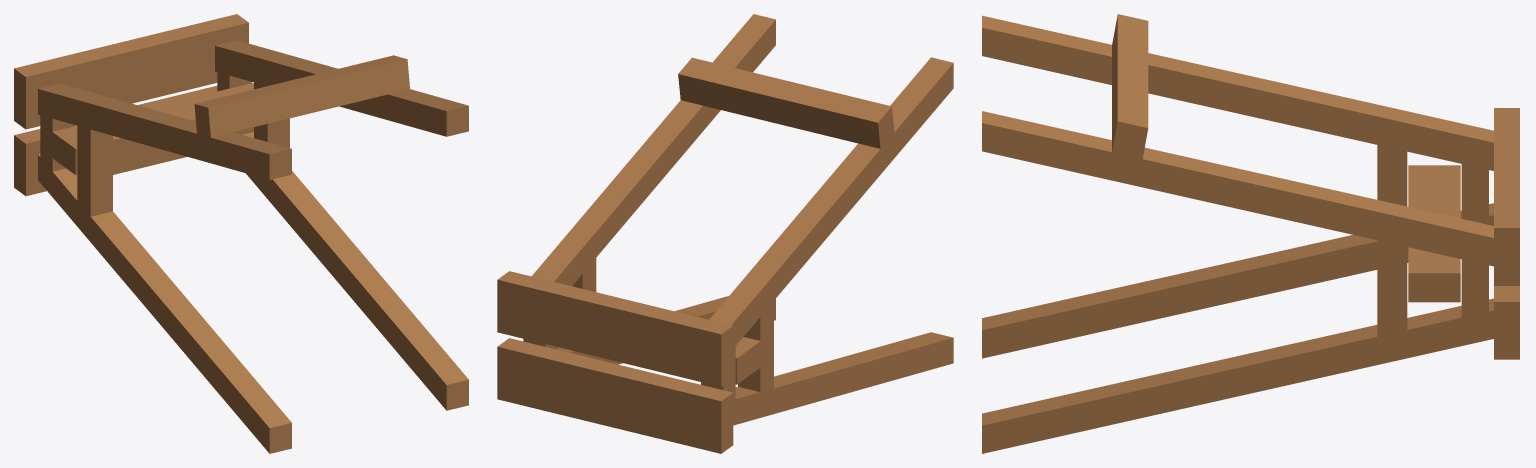
The model's file is ArenaChair_lod0.fbx.
3 views of the same model, side by side, from view 1: azimuth 30°, elevation 25°; view 2: azimuth 150°, elevation 25°; view 3: azimuth 270°, elevation 25° (orthographic). The views are drawn at different scales.
Parts seen in each view (by area): view 1: Cube.003; view 2: Cube.003; view 3: Cube.003.
Part boxes in pixels (x1=…): Cube.003: x1=14, y1=14, x2=468, y2=453; Cube.003: x1=497, y1=14, x2=953, y2=453; Cube.003: x1=982, y1=14, x2=1519, y2=453.
Bounding box in the file's own units: 42.11 × 54.32 × 79.89.
